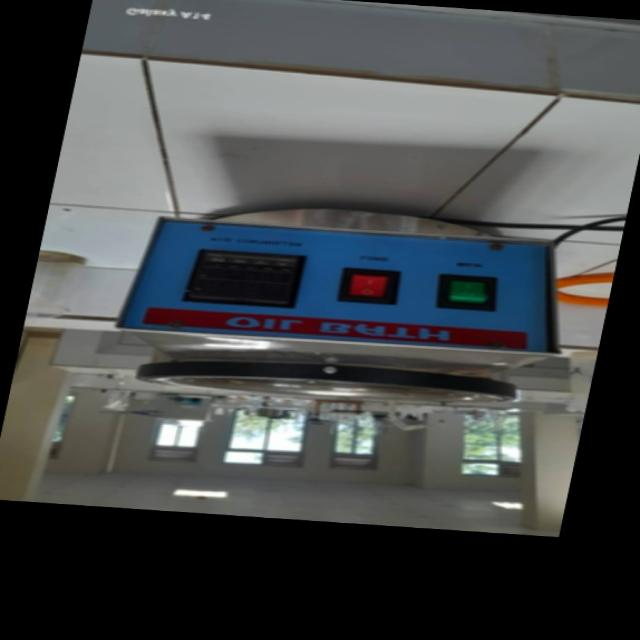Water-Oil Bath: (84, 197, 598, 419)
